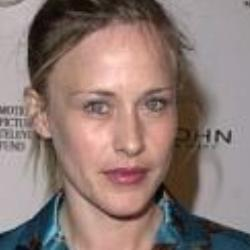face: (13, 3, 200, 209)
